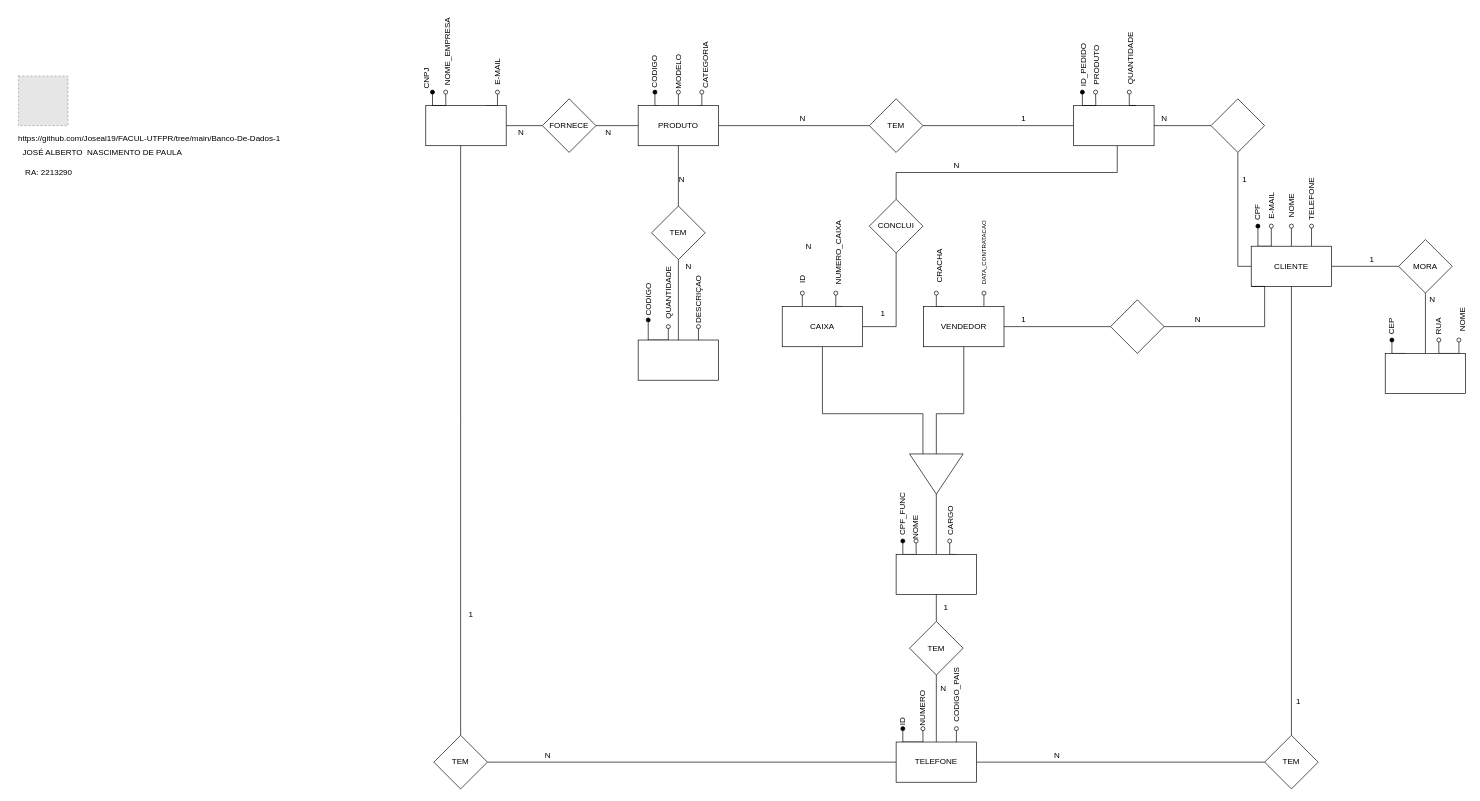
Some shapes in this 1480 by 801 pixel diagram are drawn without their labels. Grey dashed boxes stand in for pictures. Each missing label, with the box of its shape:
ATENDE: (1110, 299, 1164, 353)
BAIRRO: (1385, 353, 1466, 394)
COMPRA: (1073, 105, 1154, 146)
ESTOQUE: (638, 339, 719, 380)
FAZ: (1210, 98, 1265, 152)
FORNECEDO: (425, 105, 506, 146)
FUNCIONARIO: (895, 554, 977, 595)
